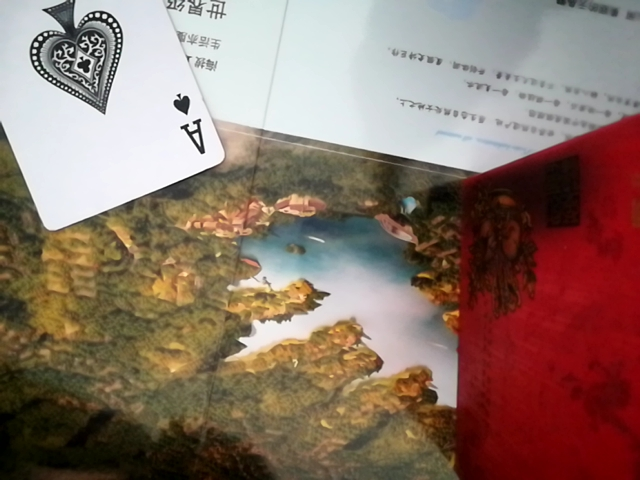ht a: (0, 0, 229, 235)
